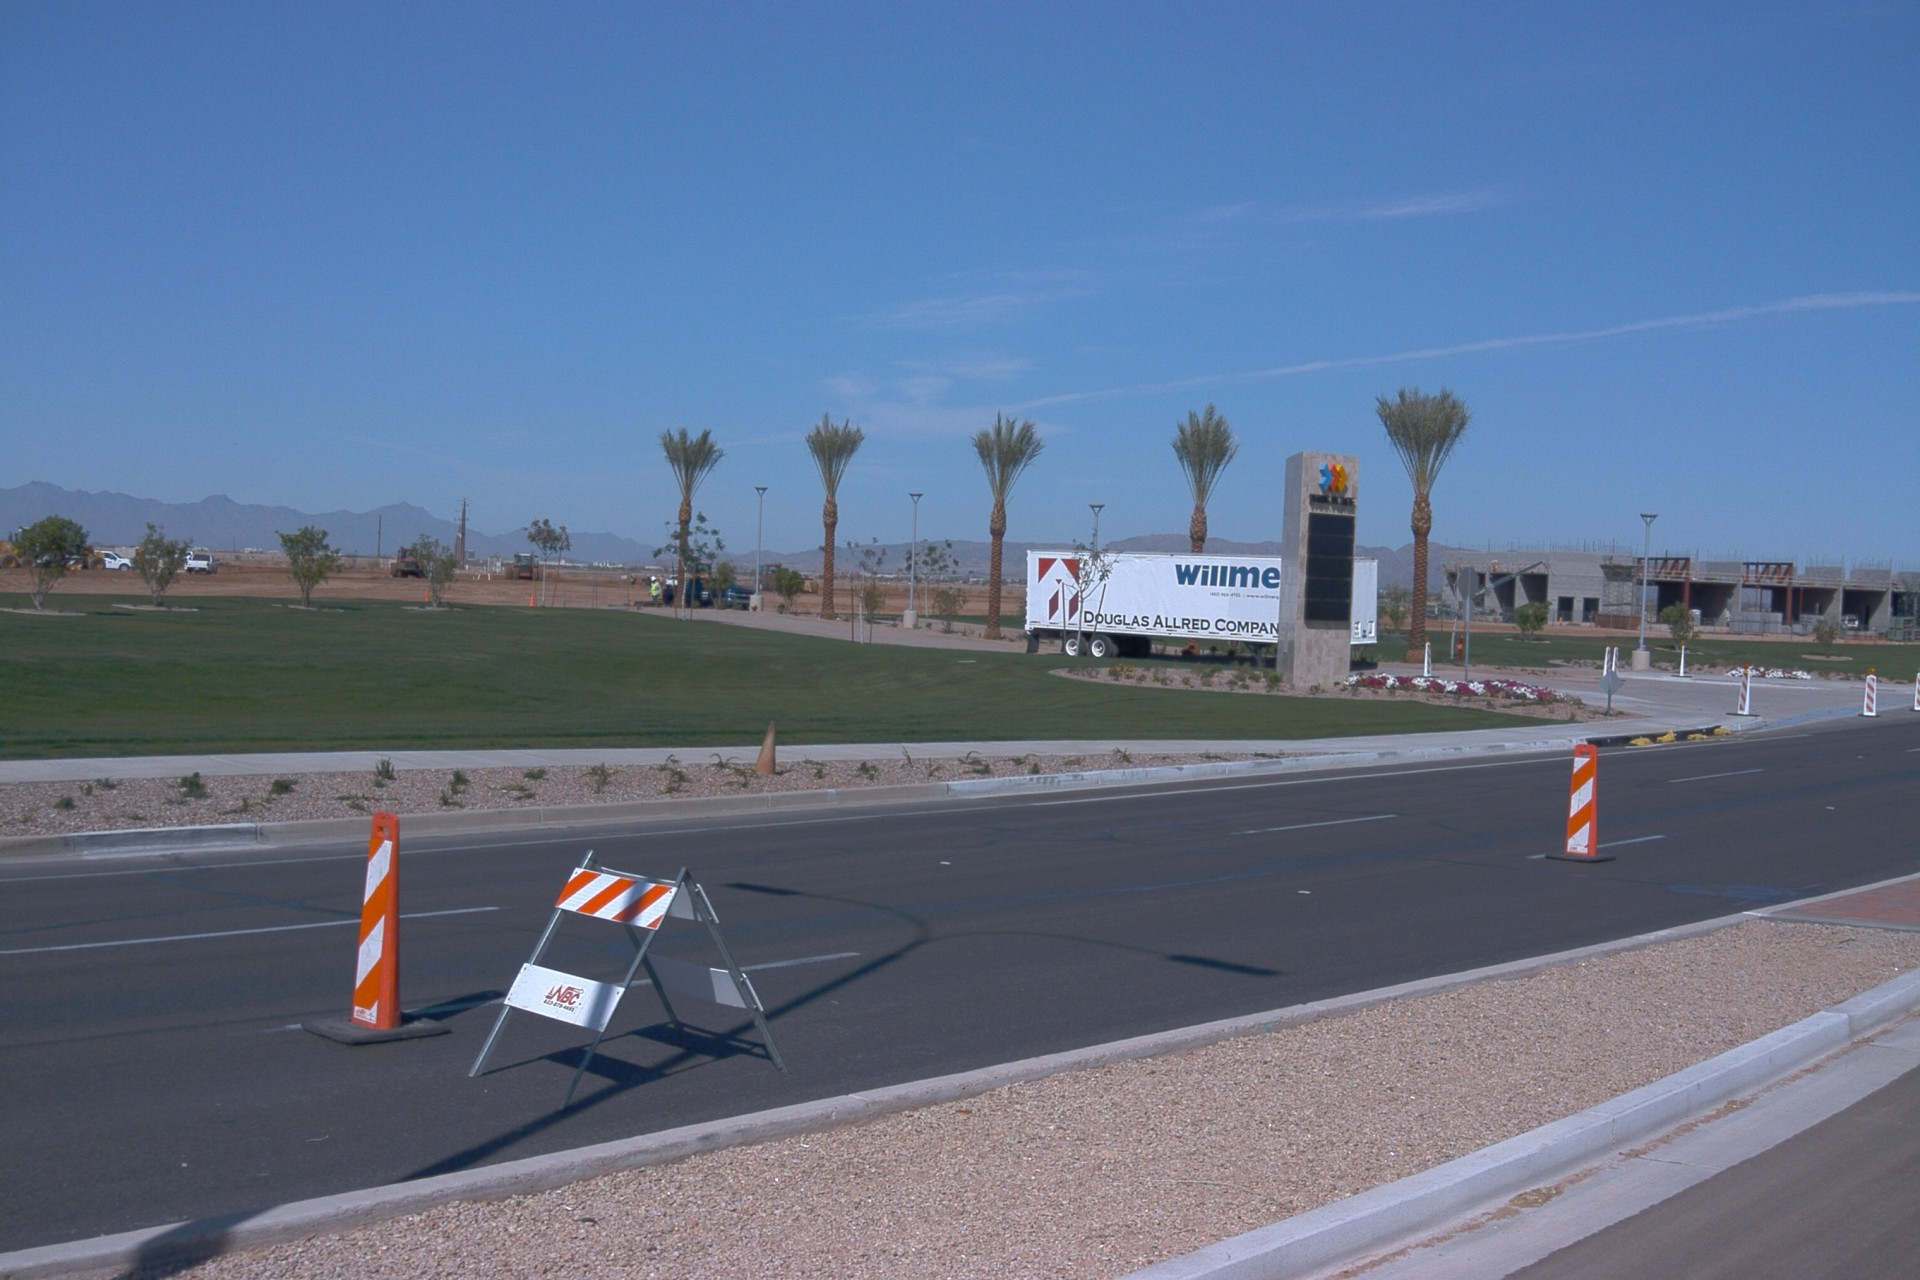TYPE_PEDESTRIAN: (647, 576, 660, 608), (656, 573, 664, 589), (630, 573, 636, 586)
TYPE_VEHICLE: (1019, 544, 1377, 661), (0, 521, 108, 571), (1476, 556, 1550, 614), (665, 569, 759, 610), (385, 544, 430, 585), (69, 549, 138, 570), (503, 553, 547, 581), (183, 554, 226, 575), (668, 576, 686, 589), (174, 549, 194, 560)
